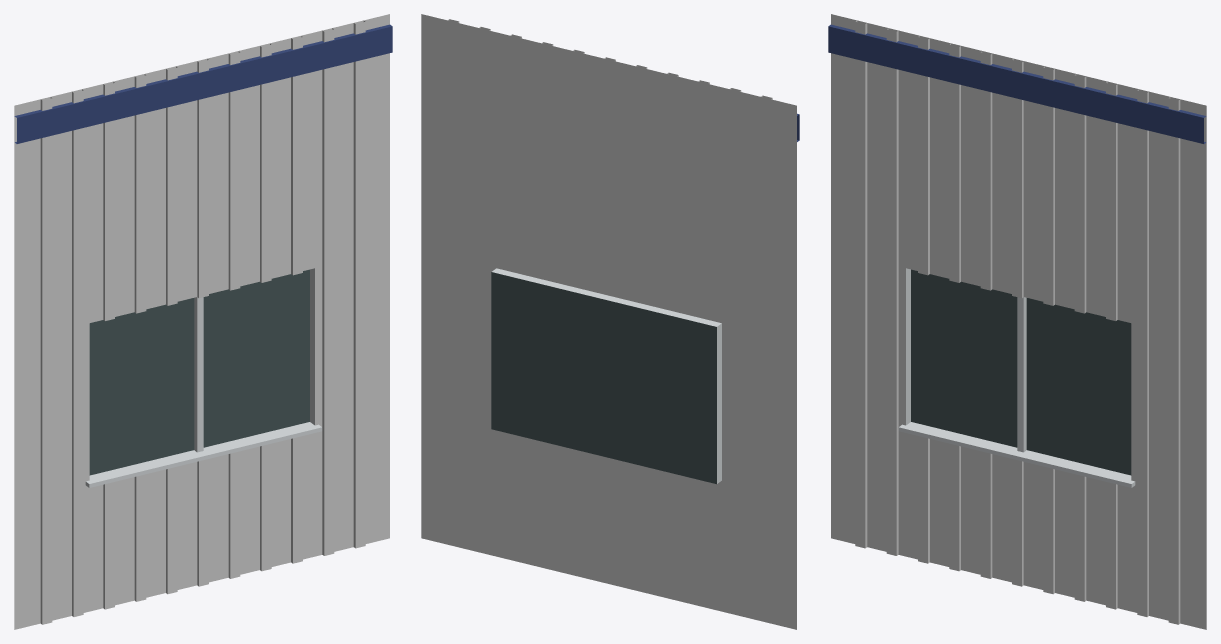
File: mid-w1_close.fbx
3 views of the same model, side by side, from view 1: azimuth 30°, elevation 25°; view 2: azimuth 150°, elevation 25°; view 3: azimuth 330°, elevation 25° (orthographic).
Visible parts, largest first — view 1: a2004/700/mid-w1_close; view 2: a2004/700/mid-w1_close; view 3: a2004/700/mid-w1_close.
Boxes of the visible parts, x1,y1,x2,y2 form: a2004/700/mid-w1_close: [14, 14, 392, 629]; a2004/700/mid-w1_close: [421, 14, 799, 629]; a2004/700/mid-w1_close: [828, 14, 1206, 629].
Bounding box in the file's own units: 3 × 4 × 0.12.
